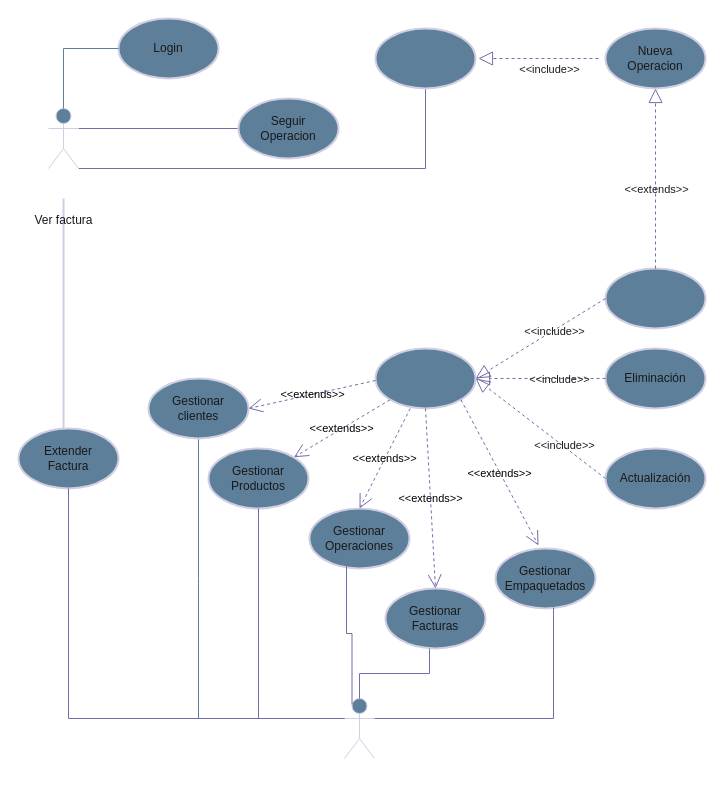
Some shapes in this 723 by 796 pixel diagram are drawn without their labels. Here are the shapes that lost their labels. From the top down, the centre of each, then its label:
point (425, 58): Relizar pago
point (63, 138): Cliente
point (655, 298): Creación
point (425, 378): Gestionar
point (359, 728): Administrador
